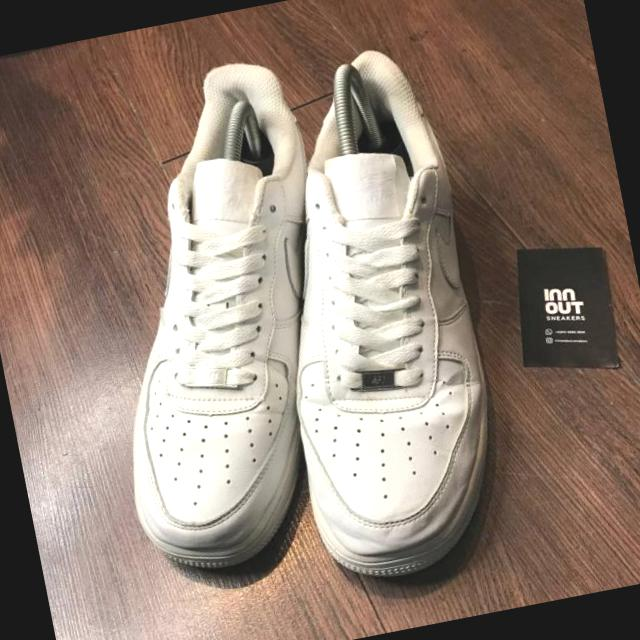nike_fake_airforce: (56, 51, 389, 588), (228, 28, 538, 594)
